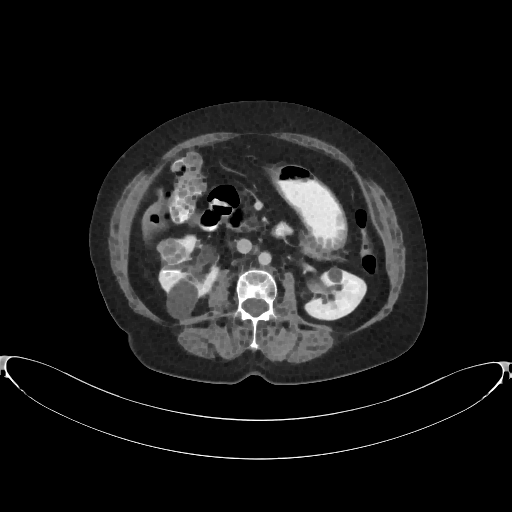Lesion: (163, 277, 200, 321)
